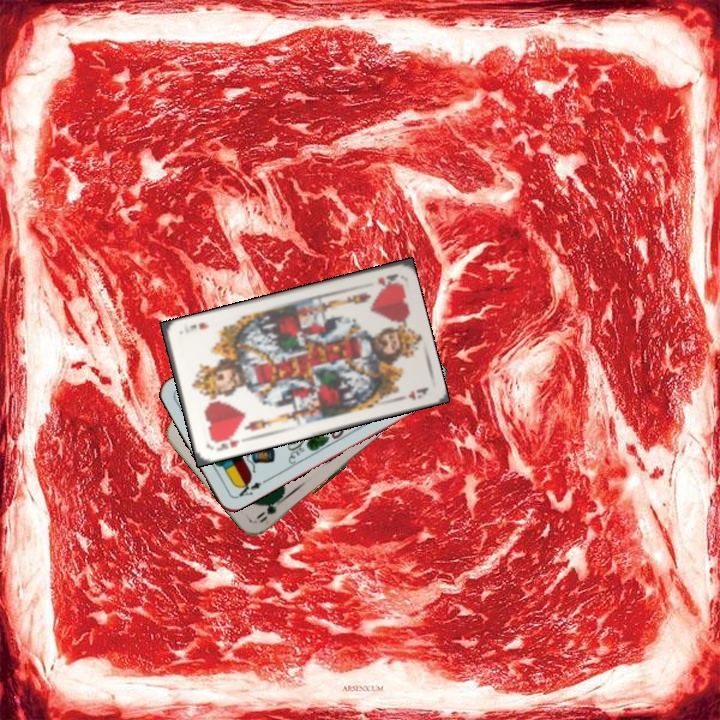EA: (232, 475, 264, 501)
GO: (252, 492, 288, 525)
HK: (212, 436, 242, 454), (374, 270, 401, 289)
